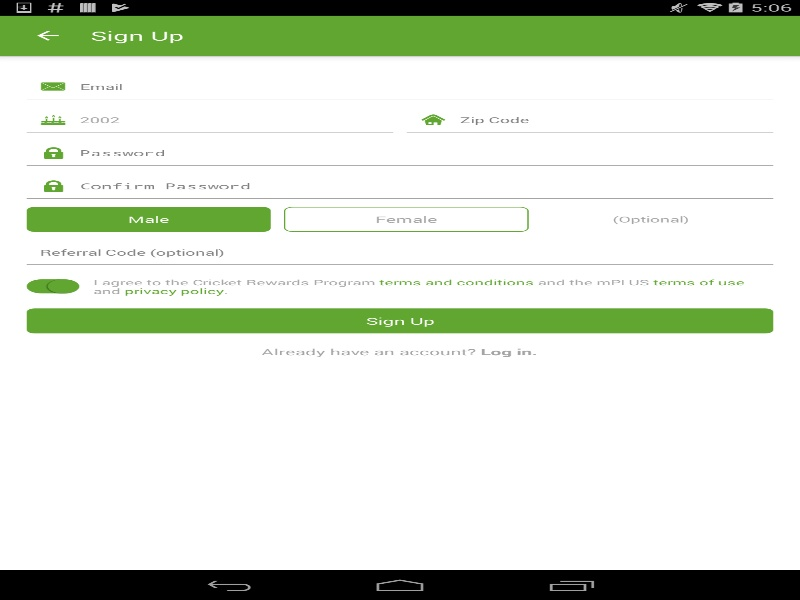Button: (26, 308, 773, 333), (26, 206, 270, 231), (284, 206, 528, 231), (10, 18, 85, 53)
Input: (26, 240, 773, 265), (80, 74, 773, 99), (80, 140, 773, 165), (80, 173, 773, 198), (459, 107, 773, 132)
